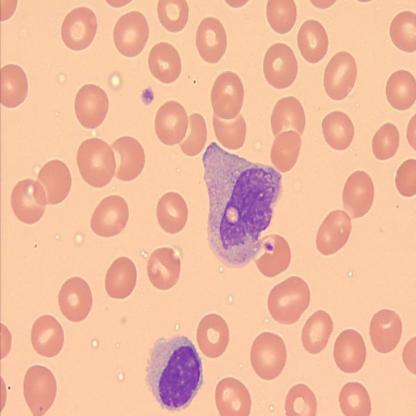Monocyte: (201, 138, 283, 270)
